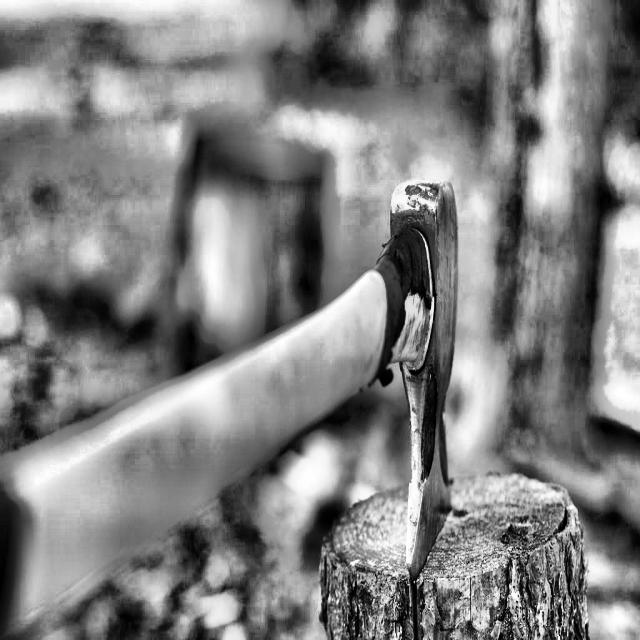kapak: (0, 170, 471, 639)
